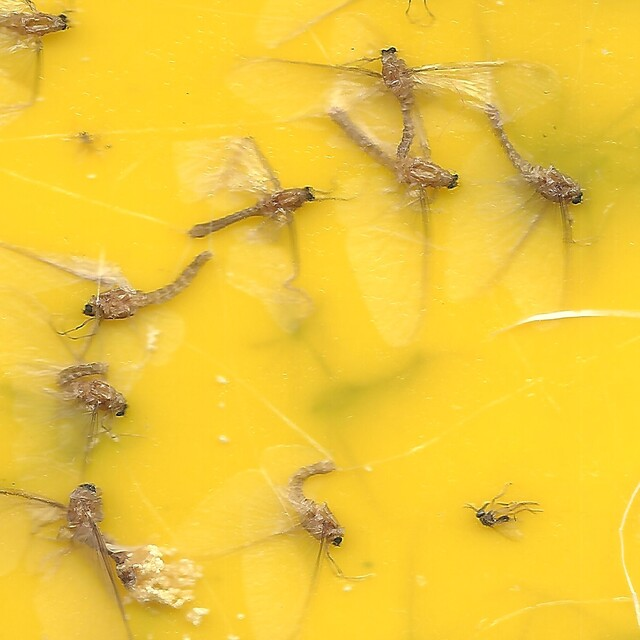Ephemeroptera: (329, 105, 460, 191), (482, 102, 588, 204), (69, 480, 144, 593), (85, 254, 208, 320), (182, 183, 316, 237), (52, 358, 132, 424), (379, 47, 418, 164)
